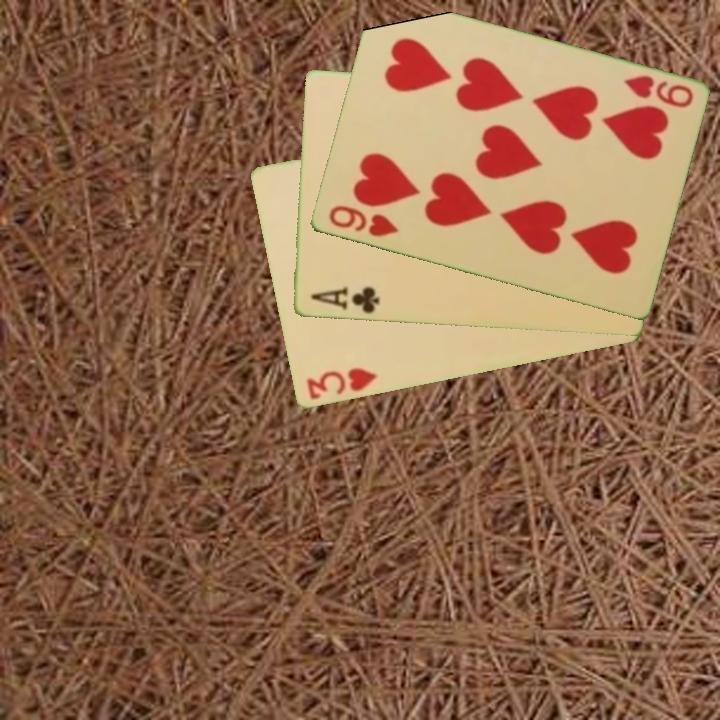3h: (302, 364, 379, 403)
9h: (620, 72, 696, 111), (325, 202, 402, 240)
Ac: (307, 284, 382, 317)
